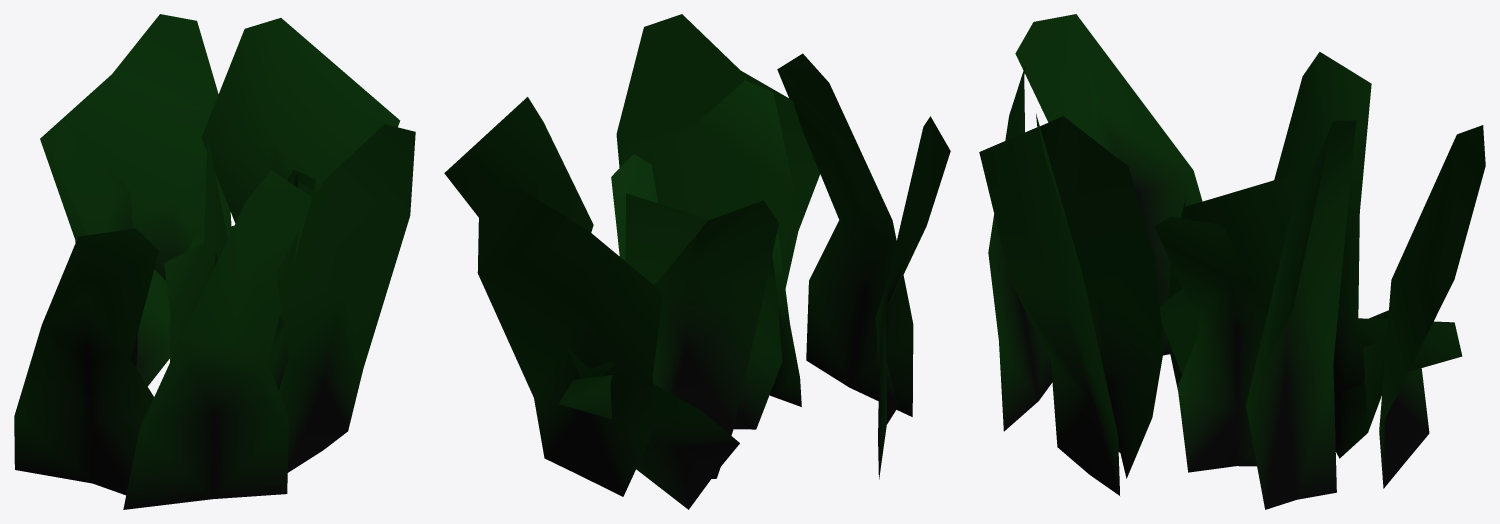
The model's file is GrassTallDryGCATA_A.fbx.
3 views of the same model, side by side, from view 1: azimuth 30°, elevation 25°; view 2: azimuth 150°, elevation 25°; view 3: azimuth 270°, elevation 25° (orthographic). The views are drawn at different scales.
Parts seen in each view (by area): view 1: GTDA_LOD0; view 2: GTDA_LOD0; view 3: GTDA_LOD0.
Boxes of the visible parts, x1,y1,x2,y2 form: GTDA_LOD0: (14, 14, 415, 509); GTDA_LOD0: (444, 14, 950, 509); GTDA_LOD0: (979, 14, 1485, 509).
Size of what is drawn, in the model's own units: 2.1 by 1.81 by 1.93.
